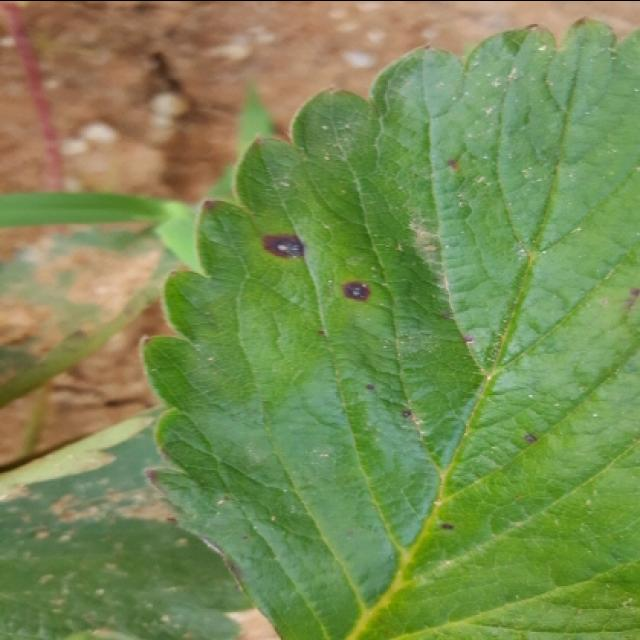Leaf Spot: (139, 11, 638, 640)
